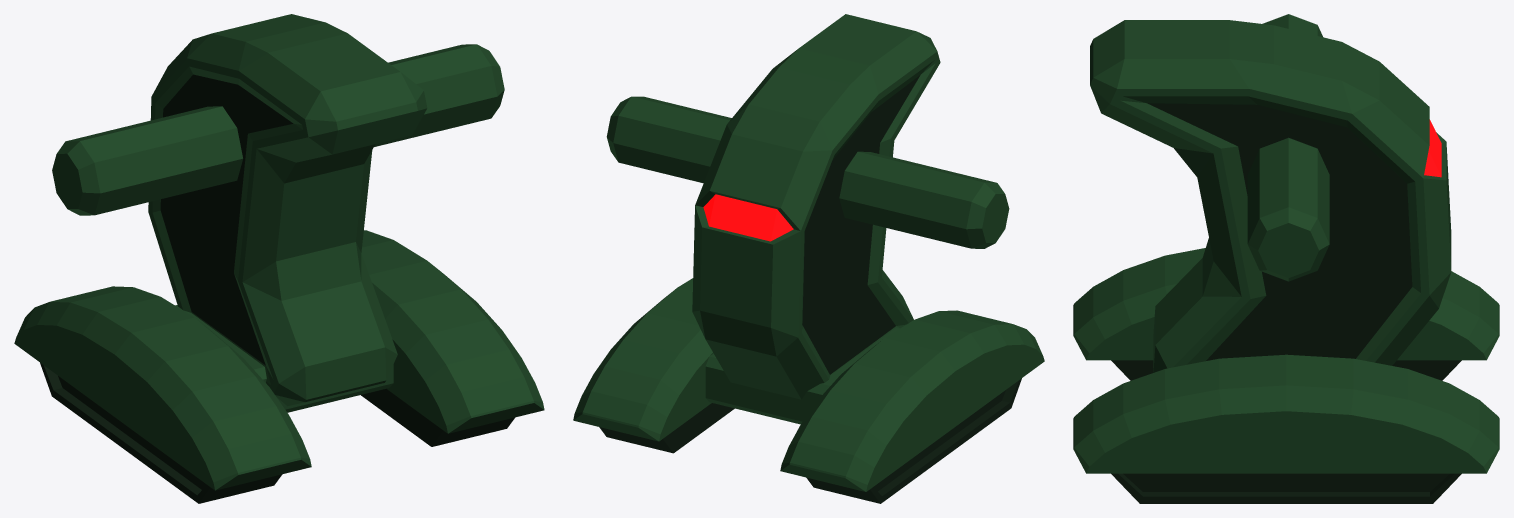
Rendered from Tank.glb.
3 views of the same model, side by side, from view 1: azimuth 30°, elevation 25°; view 2: azimuth 150°, elevation 25°; view 3: azimuth 270°, elevation 25° (orthographic). The views are drawn at different scales.
Parts seen in each view (by area): view 1: Tank_mesh; view 2: Tank_mesh; view 3: Tank_mesh.
Boxes of the visible parts, x1,y1,x2,y2 form: Tank_mesh: (14, 14, 544, 503); Tank_mesh: (573, 14, 1044, 503); Tank_mesh: (1073, 14, 1499, 503).
Size of what is drawn, in the model's own units: 3.89 by 3.44 by 3.41.
